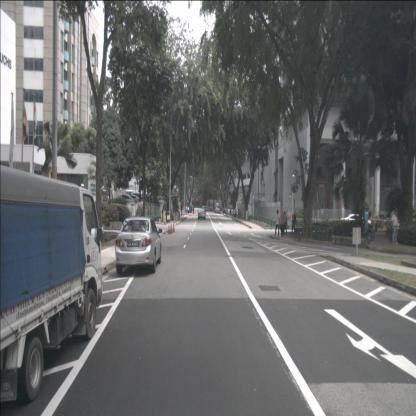human-pedestrian-adult: (392, 210, 399, 247), (367, 225, 375, 246), (279, 210, 285, 238), (274, 210, 280, 237), (291, 211, 297, 234), (364, 223, 372, 240), (363, 219, 371, 235), (284, 211, 288, 236), (237, 207, 240, 219), (233, 208, 236, 218), (227, 207, 230, 216), (231, 208, 233, 219), (230, 208, 232, 218), (181, 206, 183, 216), (187, 206, 189, 215), (192, 206, 194, 214)
movable_object-trafficcone: (167, 223, 171, 235), (169, 223, 173, 233), (172, 222, 175, 232)
vehicle-car: (115, 216, 162, 274), (339, 213, 373, 232), (128, 195, 142, 204), (120, 195, 134, 204), (198, 208, 206, 219), (215, 206, 220, 214)
vehicle-truck: (0, 165, 103, 402)
